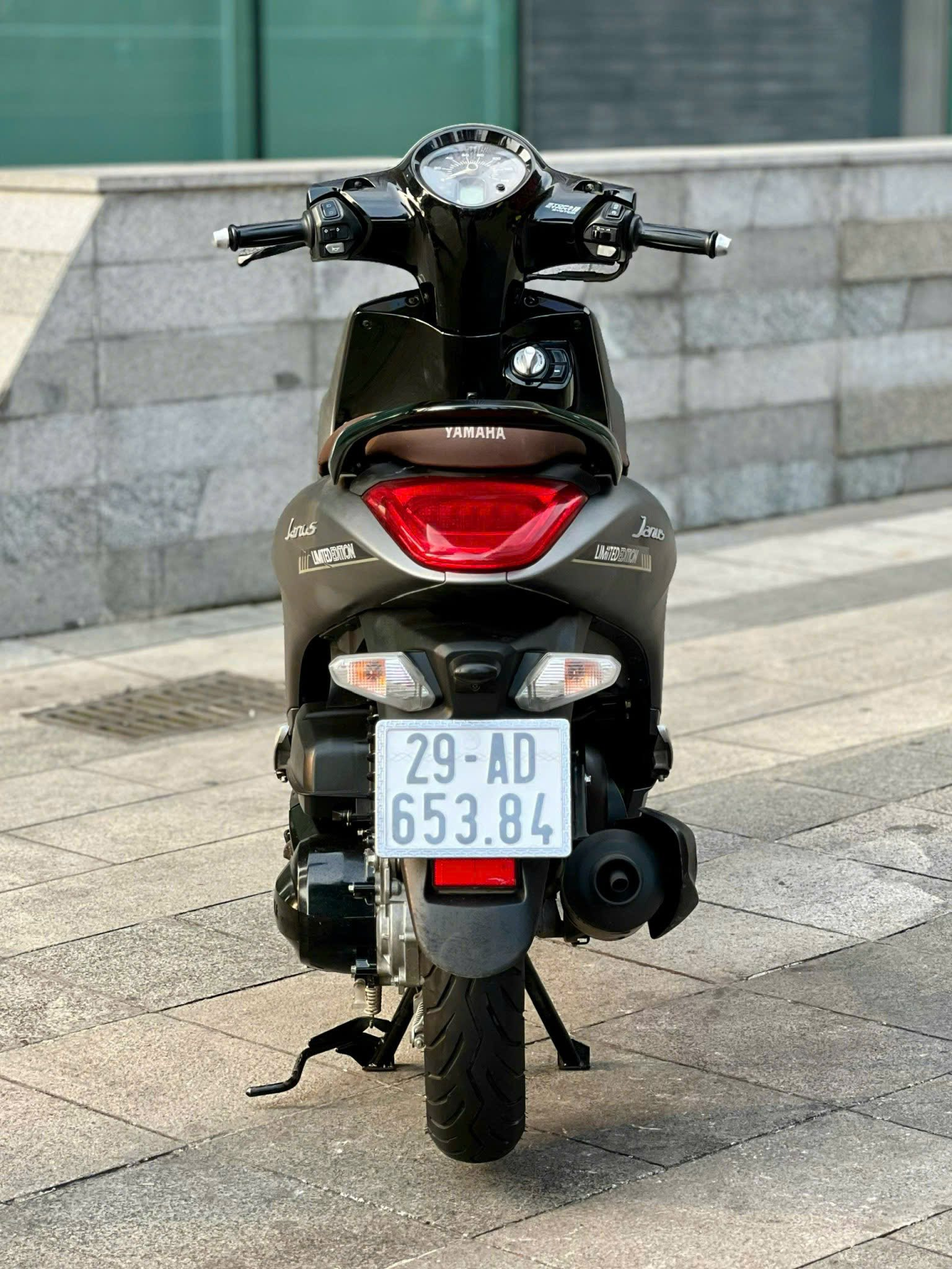bien_so: (363, 712, 580, 866)
